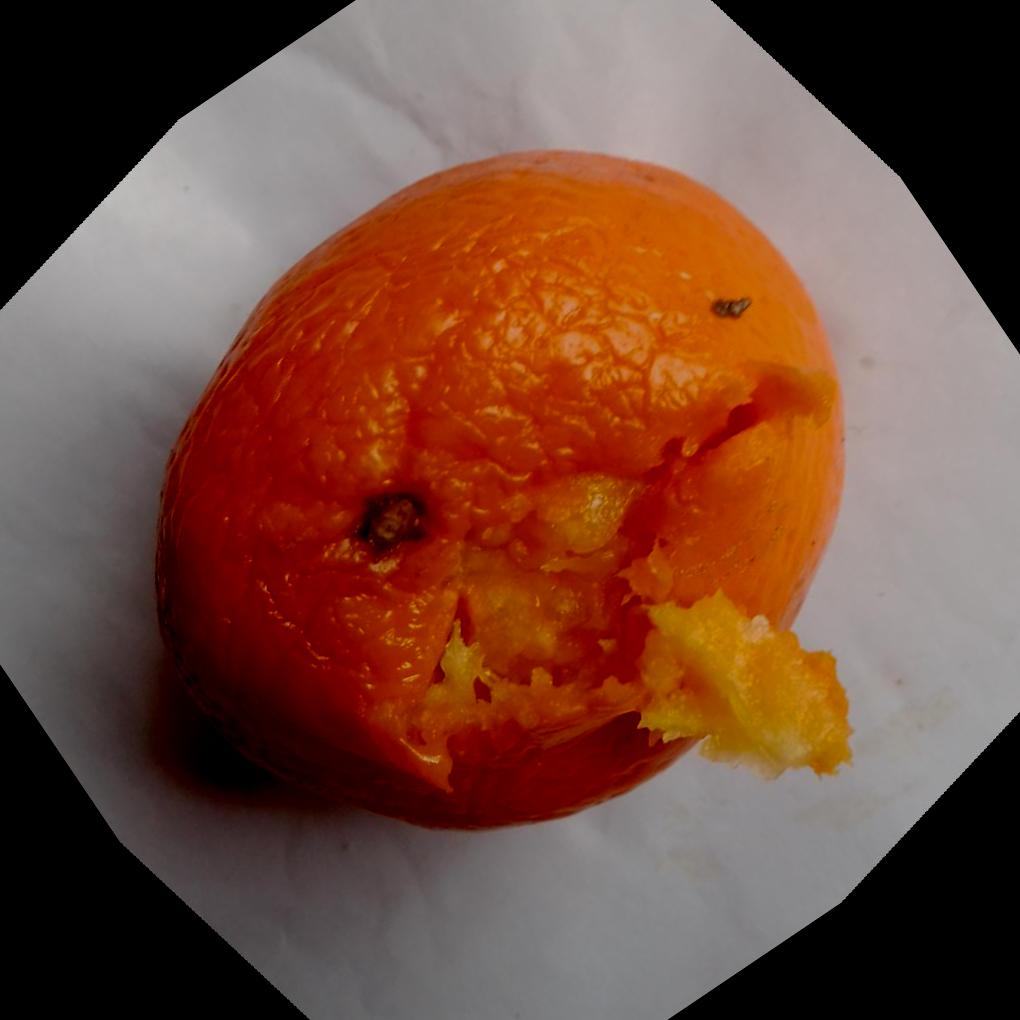FreshOrange: (148, 148, 850, 834)
